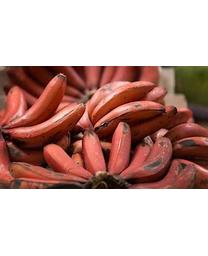banana: (1, 72, 207, 186)
